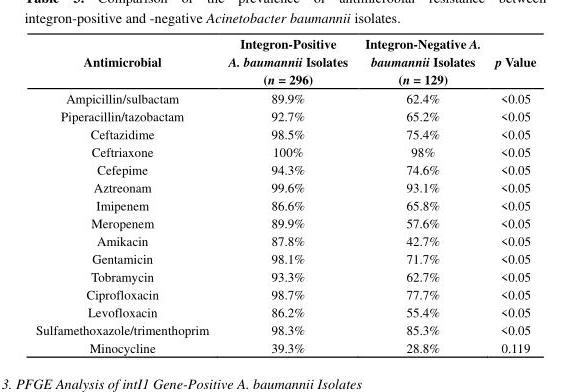table: (35, 34, 535, 355)
table column: (35, 34, 218, 355), (218, 34, 355, 355), (355, 34, 487, 355), (487, 34, 535, 355)
table column header: (35, 34, 535, 88)
table row: (35, 34, 535, 88), (35, 88, 535, 106), (35, 106, 535, 124), (35, 124, 535, 142), (35, 159, 535, 177), (35, 177, 535, 195), (35, 195, 535, 213), (35, 213, 535, 231), (35, 248, 535, 266), (35, 266, 535, 284), (35, 284, 535, 302), (35, 302, 535, 320), (35, 320, 535, 338), (35, 142, 535, 159), (35, 231, 535, 248), (35, 338, 535, 355)
